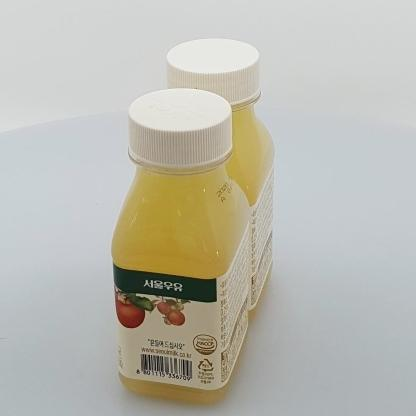-----------210ML: (111, 88, 250, 403), (150, 38, 274, 321)
